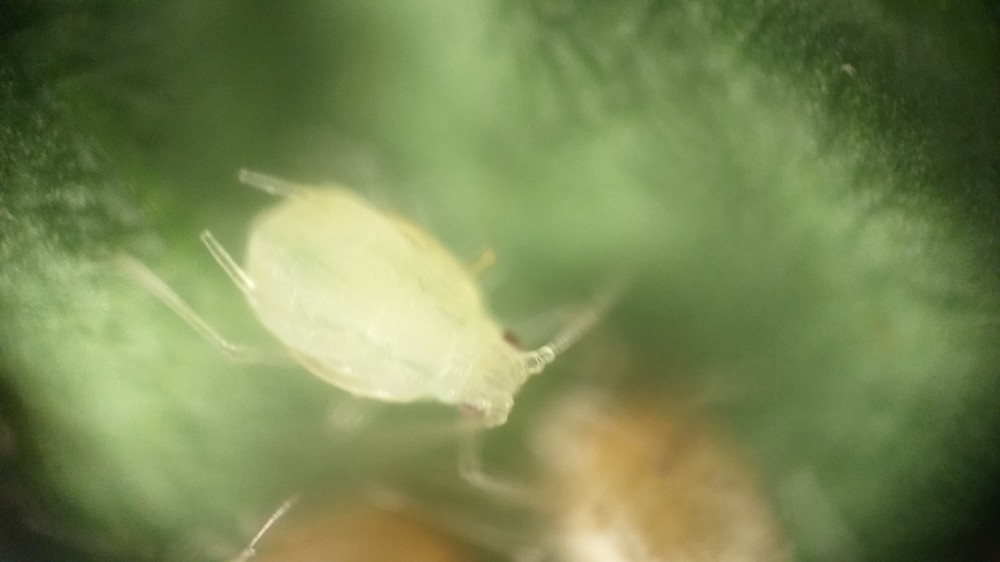Pulgon: (142, 133, 658, 516)
